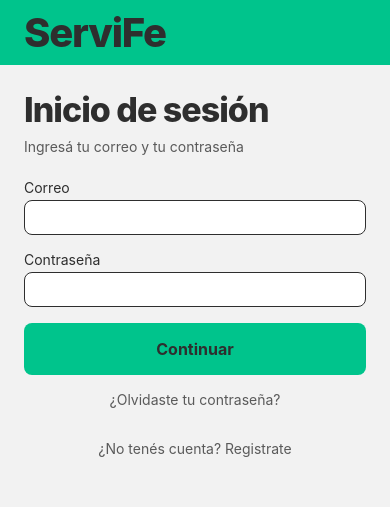
Test: IngresarScreen › cuenta suspendida muestra el mensaje del backend
The width and height of the screenshot is (390, 507).
Type "ana@mail.com" into the field named "Correo".
click(195, 218); type("ana@mail.com")  # box x1=41 y1=201 x2=349 y2=234
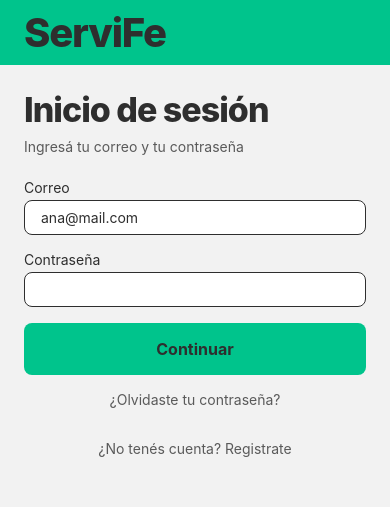
Type "Clave123" into the password field named "Contraseña".
click(195, 290); type("Clave123")  # box x1=41 y1=273 x2=349 y2=306
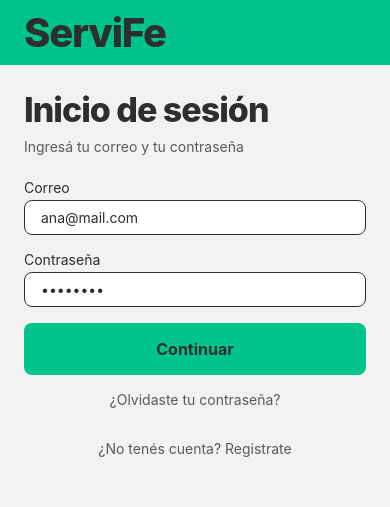
Click the button "Continuar".
click(195, 349)  # box x1=24 y1=323 x2=366 y2=375
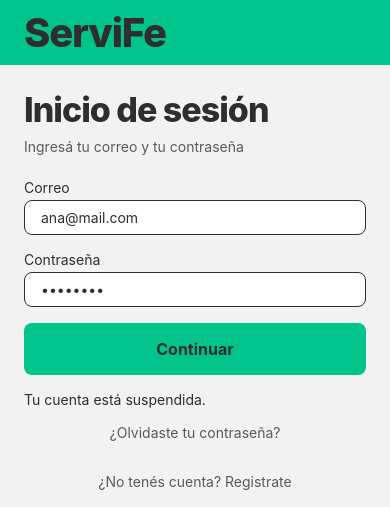
Result: the text "Tu cuenta está suspendida." is shown at x1=24 y1=391 x2=206 y2=408
